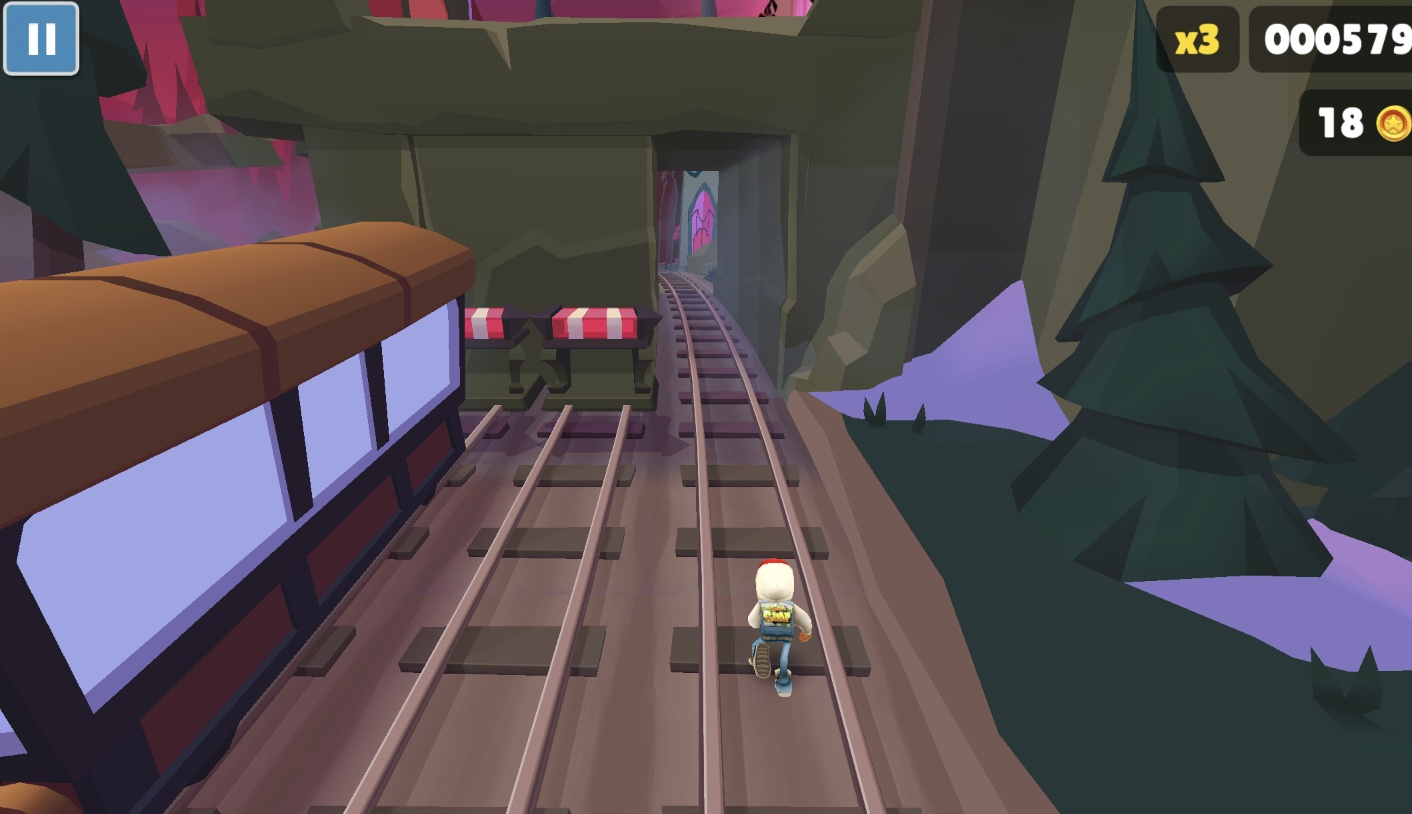ground_barrier: (536, 307, 663, 418), (474, 307, 529, 418)
train: (0, 222, 474, 814)
